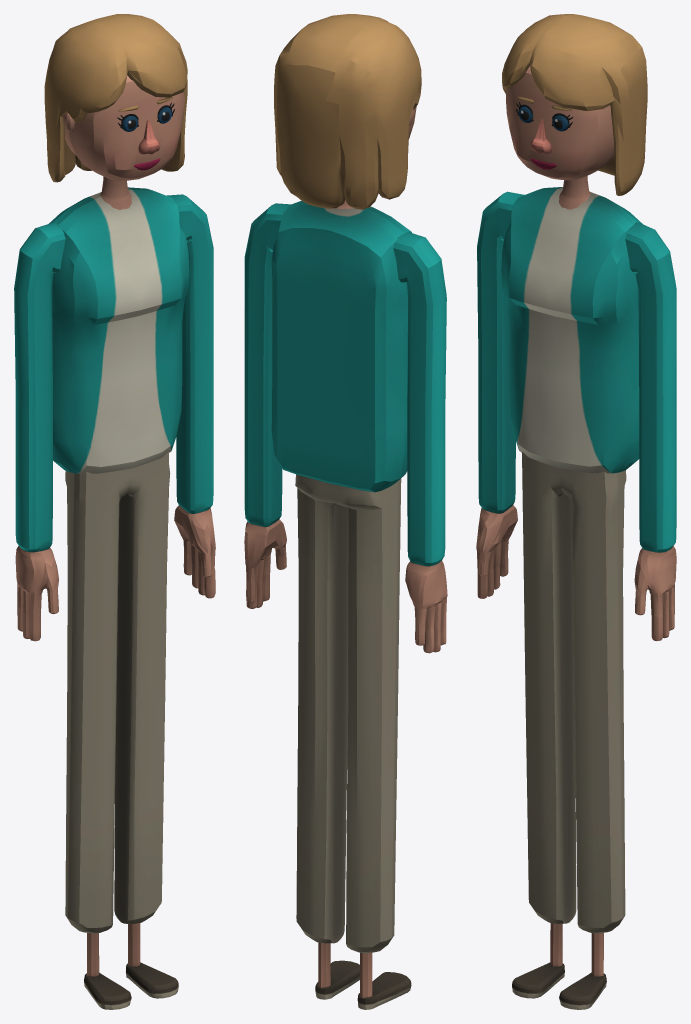
File: Rubenoid-Female-01.obj
The picture shows the model from 3 angles, left to right: view 1: azimuth 30°, elevation 25°; view 2: azimuth 150°, elevation 25°; view 3: azimuth 330°, elevation 25°; orthographic projection.
Visible parts, largest first — view 1: Body, Hair; view 2: Body, Hair; view 3: Body, Hair.
Boxes of the visible parts, x1,y1,x2,y2 form: Body: (14, 75, 215, 1009); Hair: (44, 14, 187, 182); Body: (244, 106, 447, 1009); Hair: (274, 14, 421, 209); Body: (476, 66, 676, 1009); Hair: (502, 14, 647, 195).
Size of the model in its own units: 0.3804 by 1.8 by 0.2334.
2 materials, 2 textured.
